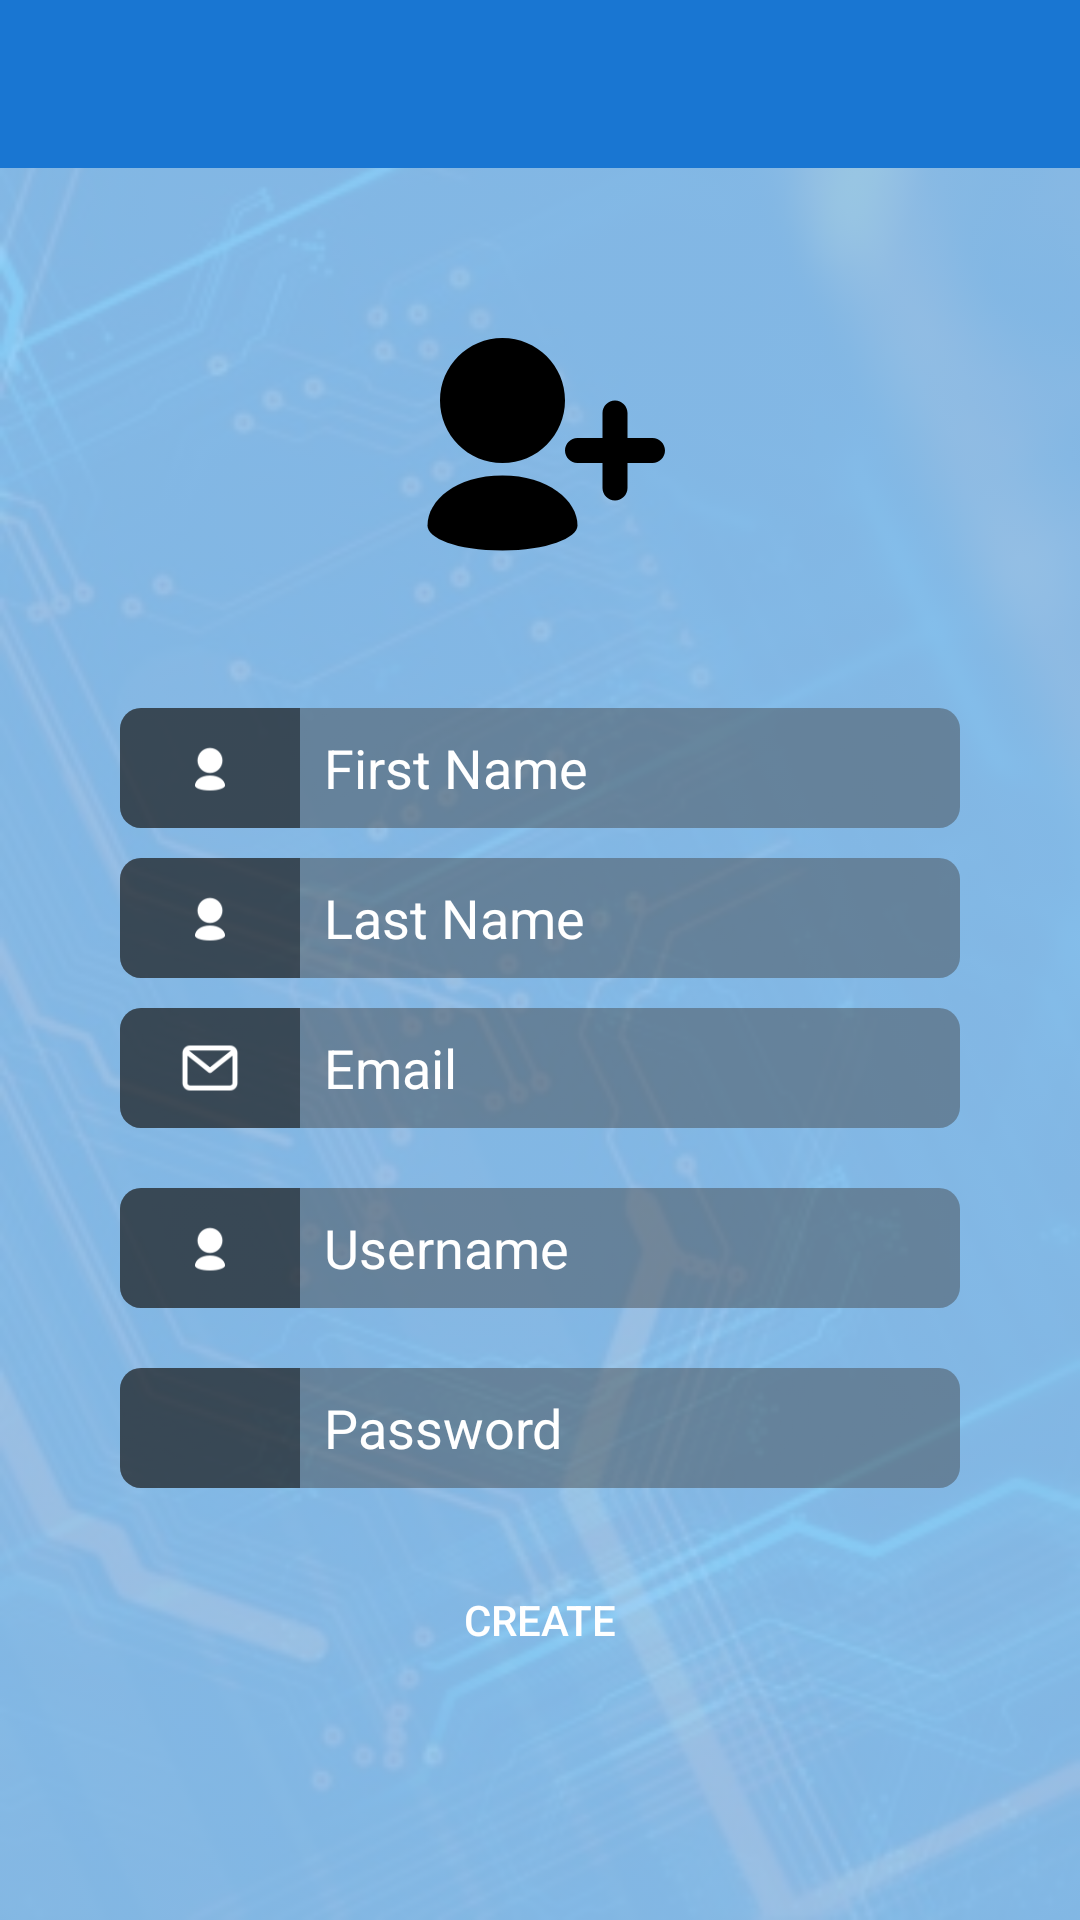

Screen size 1080×1920. Icon name, then its box in pixels as (x1, y1, x2, y2):
create user mail: (120, 1008, 300, 1128)
